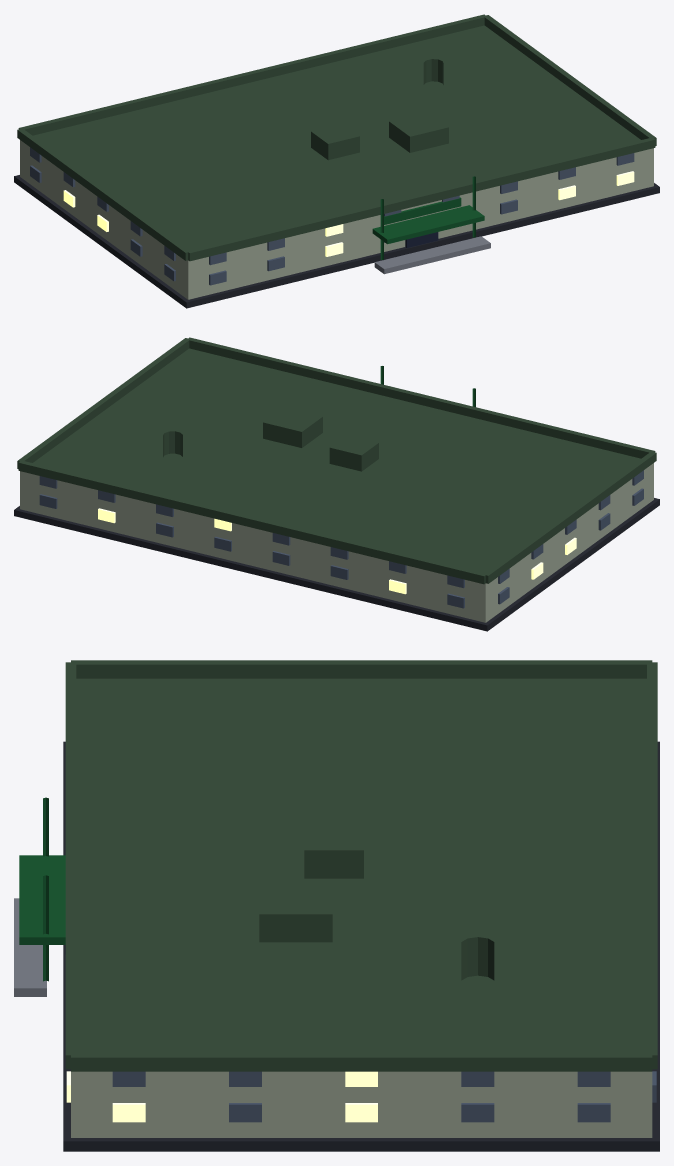
The model's file is nescii-high.glb.
3 renders of one model, top to bottom at view 1: azimuth 30°, elevation 25°; view 2: azimuth 150°, elevation 25°; view 3: azimuth 270°, elevation 25°, orthographic. The views are drawn at different scales.
Bounding box in the file's own units: 97.6 × 13.4 × 66.7.
